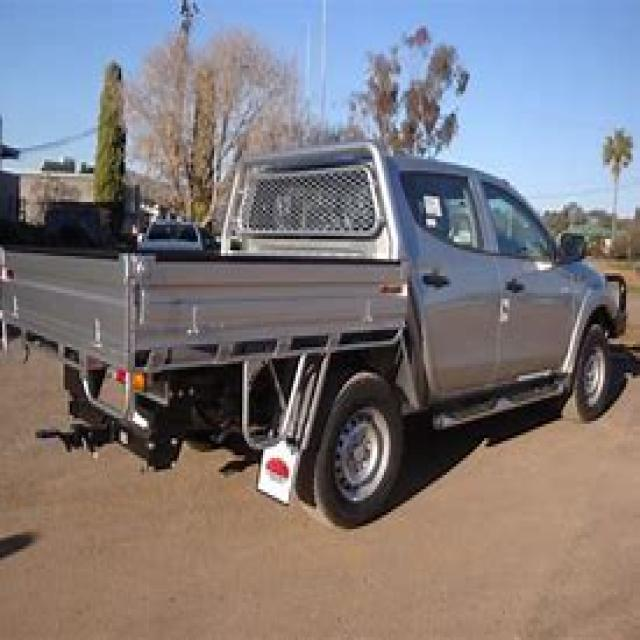light_vehicle: (9, 122, 638, 529)
